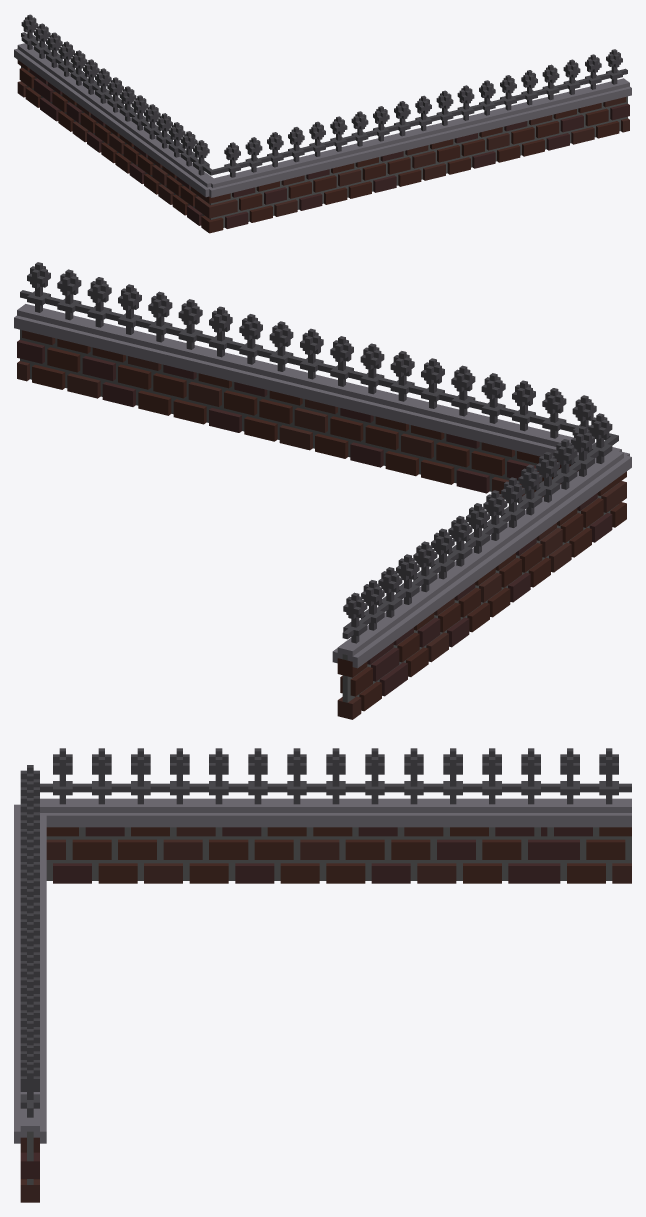
The model's file is ReУгловой-Забор.obj.
3 renders of one model, top to bottom at view 1: azimuth 30°, elevation 25°; view 2: azimuth 150°, elevation 25°; view 3: azimuth 270°, elevation 25°, orthographic. The views are drawn at different scales.
Size of the model in its own units: 12 by 2.2 by 9.5.
Materials: 1 (1 with a texture image).
